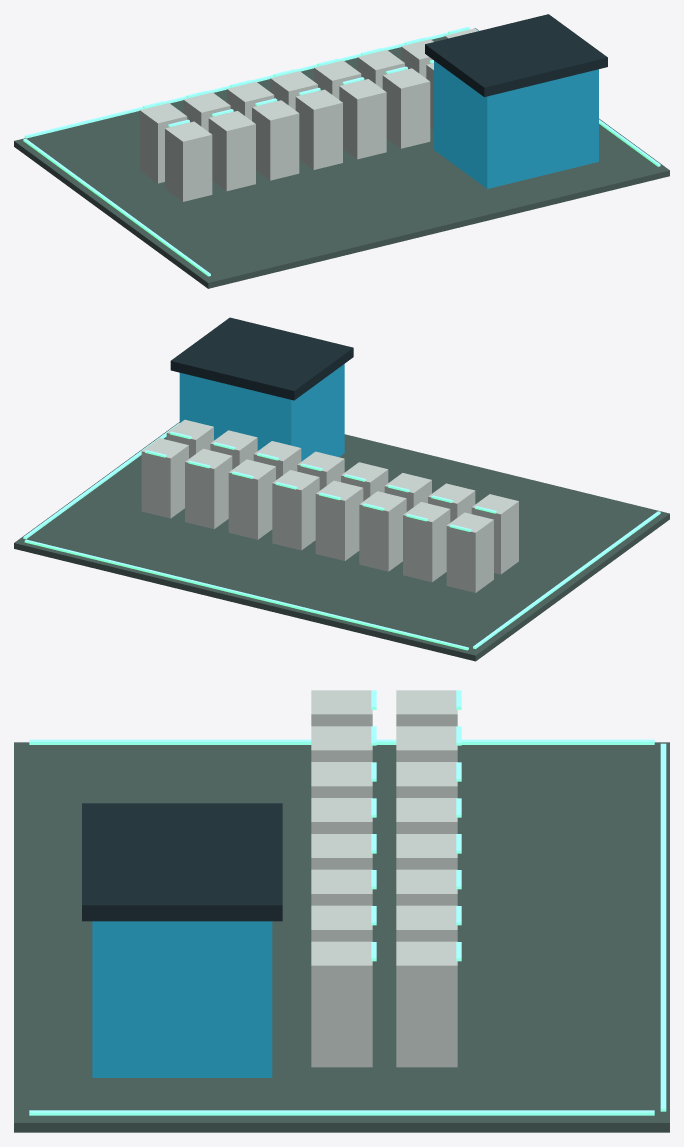
Rendered from storage-module.glb.
3 renders of one model, top to bottom at view 1: azimuth 30°, elevation 25°; view 2: azimuth 150°, elevation 25°; view 3: azimuth 270°, elevation 25°, orthographic. The views are drawn at different scales.
Parts seen in each view (by area): view 1: rj-storage-building-module-service-pad, rj-storage-building-module-microgrid-control-room, rj-storage-building-module-control-room-roof, rj-storage-building-module-battery-container-2-1, rj-storage-building-module-battery-container-2-6, rj-storage-building-module-battery-container-2-3, rj-storage-building-module-battery-container-2-5, rj-storage-building-module-battery-container-2-2, rj-storage-building-module-battery-container-2-4, rj-storage-building-module-battery-container-1-1, rj-storage-building-module-front-glow-rail, rj-storage-building-module-battery-container-1-2 (+6 smaller); view 2: rj-storage-building-module-service-pad, rj-storage-building-module-microgrid-control-room, rj-storage-building-module-control-room-roof, rj-storage-building-module-battery-container-1-1, rj-storage-building-module-battery-container-1-4, rj-storage-building-module-battery-container-1-6, rj-storage-building-module-battery-container-1-8, rj-storage-building-module-battery-container-1-2, rj-storage-building-module-battery-container-1-3, rj-storage-building-module-battery-container-1-7, rj-storage-building-module-battery-container-1-5, rj-storage-building-module-battery-container-2-1 (+10 smaller); view 3: rj-storage-building-module-service-pad, rj-storage-building-module-microgrid-control-room, rj-storage-building-module-control-room-roof, rj-storage-building-module-battery-container-1-8, rj-storage-building-module-battery-container-2-8, rj-storage-building-module-side-glow-rail-right, rj-storage-building-module-side-glow-rail-left, rj-storage-building-module-front-glow-rail, rj-storage-building-module-battery-container-1-6, rj-storage-building-module-battery-container-1-7, rj-storage-building-module-battery-container-2-6, rj-storage-building-module-battery-container-2-7 (+10 smaller).
Part boxes in pixels (x1=…): rj-storage-building-module-service-pad: x1=14, y1=28, x2=669, y2=288; rj-storage-building-module-microgrid-control-room: x1=434, y1=60, x2=598, y2=188; rj-storage-building-module-control-room-roof: x1=425, y1=14, x2=607, y2=96; rj-storage-building-module-battery-container-2-1: x1=165, y1=121, x2=212, y2=201; rj-storage-building-module-battery-container-2-6: x1=382, y1=68, x2=430, y2=148; rj-storage-building-module-battery-container-2-3: x1=252, y1=100, x2=299, y2=180; rj-storage-building-module-battery-container-2-5: x1=339, y1=79, x2=386, y2=159; rj-storage-building-module-battery-container-2-2: x1=208, y1=111, x2=255, y2=191; rj-storage-building-module-battery-container-2-4: x1=295, y1=89, x2=342, y2=169; rj-storage-building-module-battery-container-1-1: x1=139, y1=103, x2=187, y2=183; rj-storage-building-module-front-glow-rail: x1=24, y1=32, x2=449, y2=138; rj-storage-building-module-battery-container-1-2: x1=183, y1=92, x2=230, y2=131; rj-storage-building-module-service-pad: x1=14, y1=422, x2=669, y2=661; rj-storage-building-module-microgrid-control-room: x1=179, y1=364, x2=344, y2=461; rj-storage-building-module-control-room-roof: x1=170, y1=317, x2=353, y2=400; rj-storage-building-module-battery-container-1-1: x1=446, y1=512, x2=493, y2=592; rj-storage-building-module-battery-container-1-4: x1=315, y1=480, x2=363, y2=560; rj-storage-building-module-battery-container-1-6: x1=228, y1=459, x2=275, y2=539; rj-storage-building-module-battery-container-1-8: x1=141, y1=438, x2=188, y2=518; rj-storage-building-module-battery-container-1-2: x1=403, y1=502, x2=450, y2=582; rj-storage-building-module-battery-container-1-3: x1=359, y1=491, x2=406, y2=571; rj-storage-building-module-battery-container-1-7: x1=185, y1=448, x2=232, y2=529; rj-storage-building-module-battery-container-1-5: x1=272, y1=470, x2=319, y2=550; rj-storage-building-module-battery-container-2-1: x1=471, y1=494, x2=518, y2=574; rj-storage-building-module-service-pad: x1=14, y1=742, x2=669, y2=1132; rj-storage-building-module-microgrid-control-room: x1=92, y1=921, x2=272, y2=1077; rj-storage-building-module-control-room-roof: x1=82, y1=803, x2=282, y2=921; rj-storage-building-module-battery-container-1-8: x1=396, y1=941, x2=457, y2=1067; rj-storage-building-module-battery-container-2-8: x1=311, y1=941, x2=372, y2=1067; rj-storage-building-module-side-glow-rail-right: x1=29, y1=1110, x2=654, y2=1115; rj-storage-building-module-side-glow-rail-left: x1=29, y1=739, x2=654, y2=744; rj-storage-building-module-front-glow-rail: x1=660, y1=743, x2=666, y2=1111; rj-storage-building-module-battery-container-1-6: x1=396, y1=869, x2=457, y2=905; rj-storage-building-module-battery-container-1-7: x1=396, y1=905, x2=457, y2=941; rj-storage-building-module-battery-container-2-6: x1=311, y1=869, x2=372, y2=905; rj-storage-building-module-battery-container-2-7: x1=311, y1=905, x2=372, y2=941.
Bounding box in the file's own units: 13.25 × 3.13 × 9.65.
